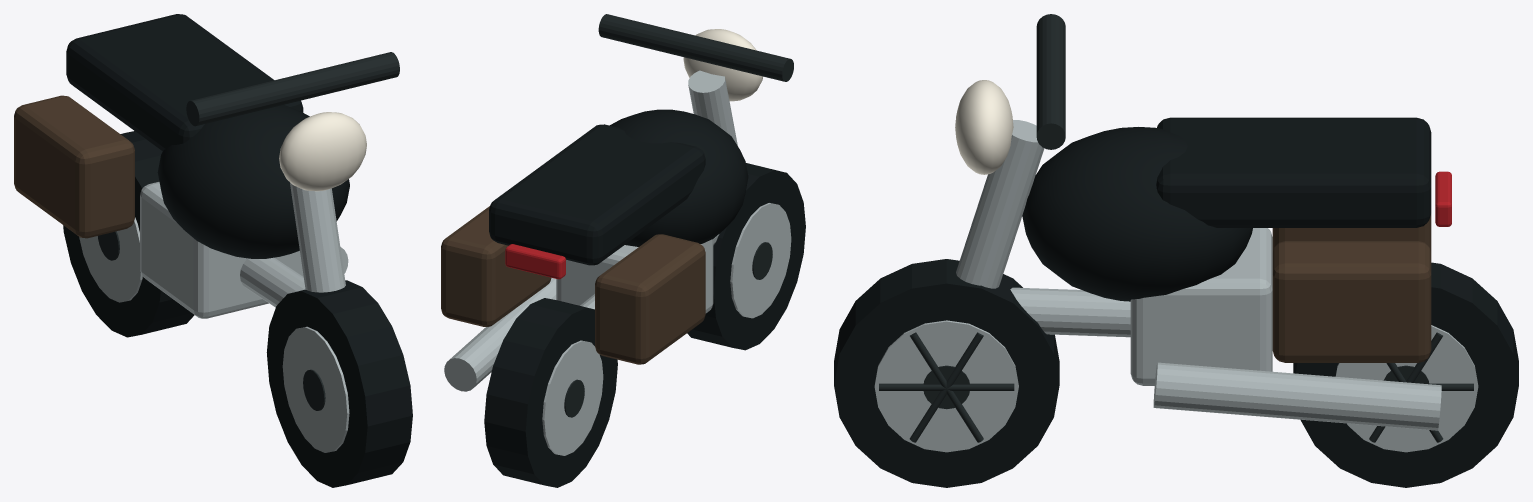
The model's file is best.glb.
3 views of the same model, side by side, from view 1: azimuth 30°, elevation 25°; view 2: azimuth 150°, elevation 25°; view 3: azimuth 270°, elevation 25° (orthographic). The views are drawn at different scales.
Parts seen in each view (by area): view 1: Fuel tank, Engine, Saddle bag, Handlebar, Headlight; view 2: Fuel tank, Saddle bag, Engine, Handlebar, Headlight, Rear light; view 3: Fuel tank, Engine, Saddle bag, Handlebar, Headlight, Rear light.
Boxes of the visible parts, box(x1,y1,x2,y2) form: Fuel tank: box(63, 14, 412, 487); Engine: box(79, 182, 349, 452); Saddle bag: box(14, 95, 134, 238); Handlebar: box(98, 52, 399, 410); Headlight: box(279, 112, 366, 191); Fuel tank: box(484, 109, 805, 487); Saddle bag: box(441, 206, 705, 364); Engine: box(444, 70, 791, 455); Handlebar: box(564, 14, 793, 417); Headlight: box(683, 29, 762, 101); Rear light: box(505, 244, 565, 279); Fuel tank: box(834, 117, 1518, 487); Engine: box(874, 120, 1478, 452); Saddle bag: box(1272, 214, 1431, 362); Handlebar: box(879, 14, 1473, 442); Headlight: box(955, 80, 1013, 174); Rear light: box(1435, 171, 1451, 226).
Bounding box in the file's own units: 0.4 × 0.6143 × 0.9371.
